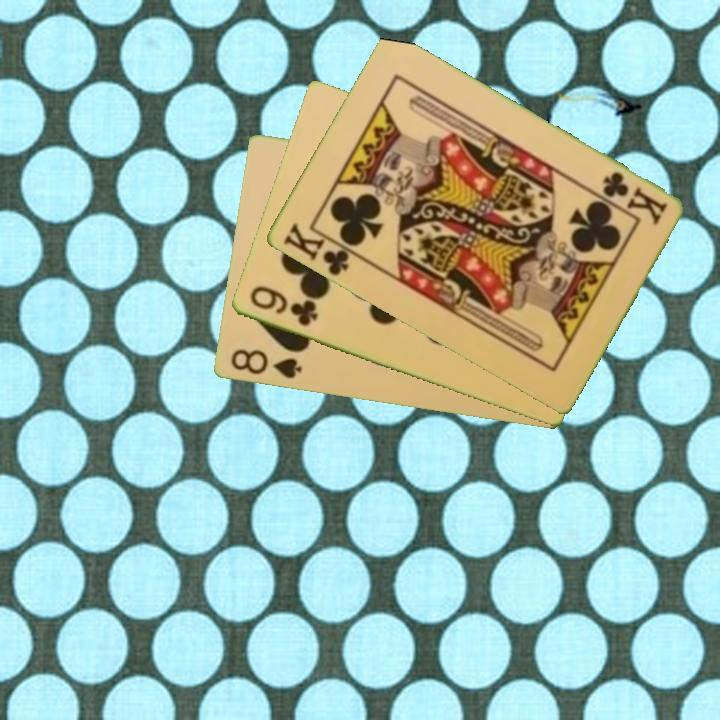8s: (226, 346, 305, 382)
9c: (245, 283, 321, 330)
Kc: (279, 219, 361, 279), (598, 168, 670, 228)
